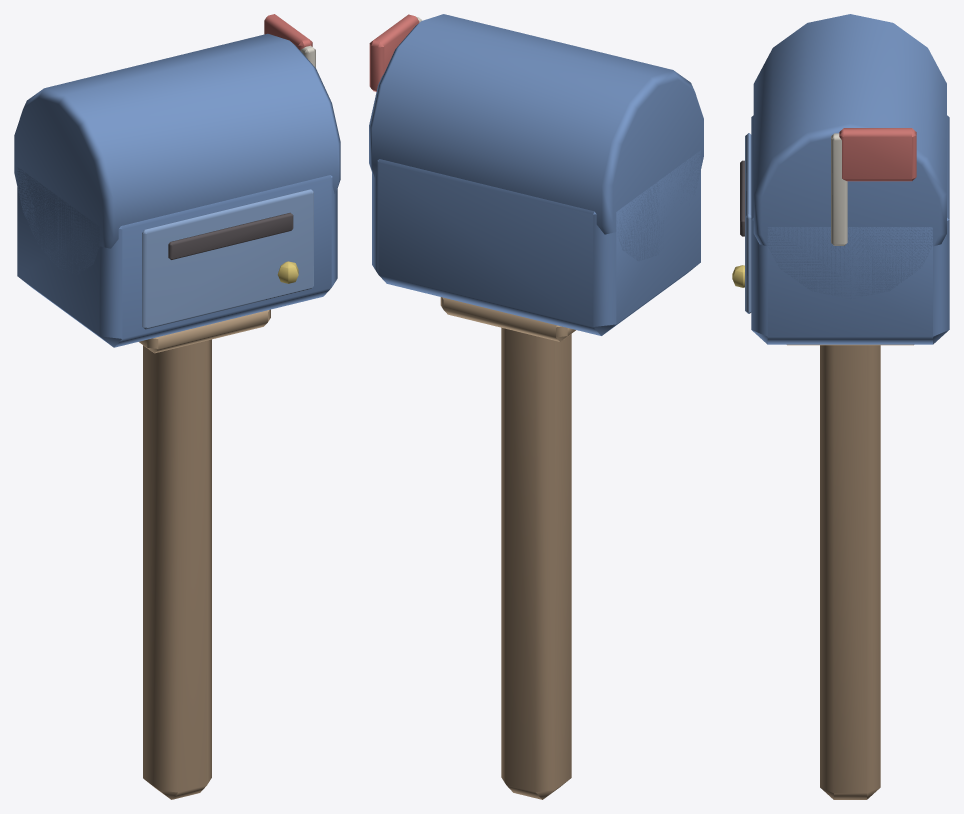
The model's file is mailbox.gltf.
3 views of the same model, side by side, from view 1: azimuth 30°, elevation 25°; view 2: azimuth 150°, elevation 25°; view 3: azimuth 270°, elevation 25° (orthographic). The views are drawn at different scales.
Visible parts, largest first — view 1: mailbox; view 2: mailbox; view 3: mailbox.
Part boxes in pixels (x1,y1,x2,y2): mailbox: (14,14,340,799); mailbox: (369,14,703,799); mailbox: (732,14,949,799).
Size of the model in its own units: 0.527 by 1.45 by 0.3941.
